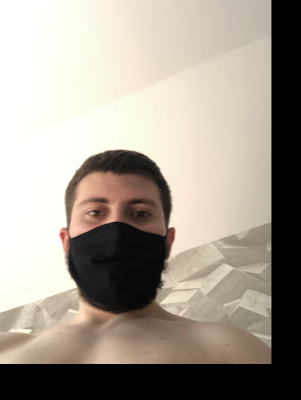with_mask: (66, 189, 169, 313)
